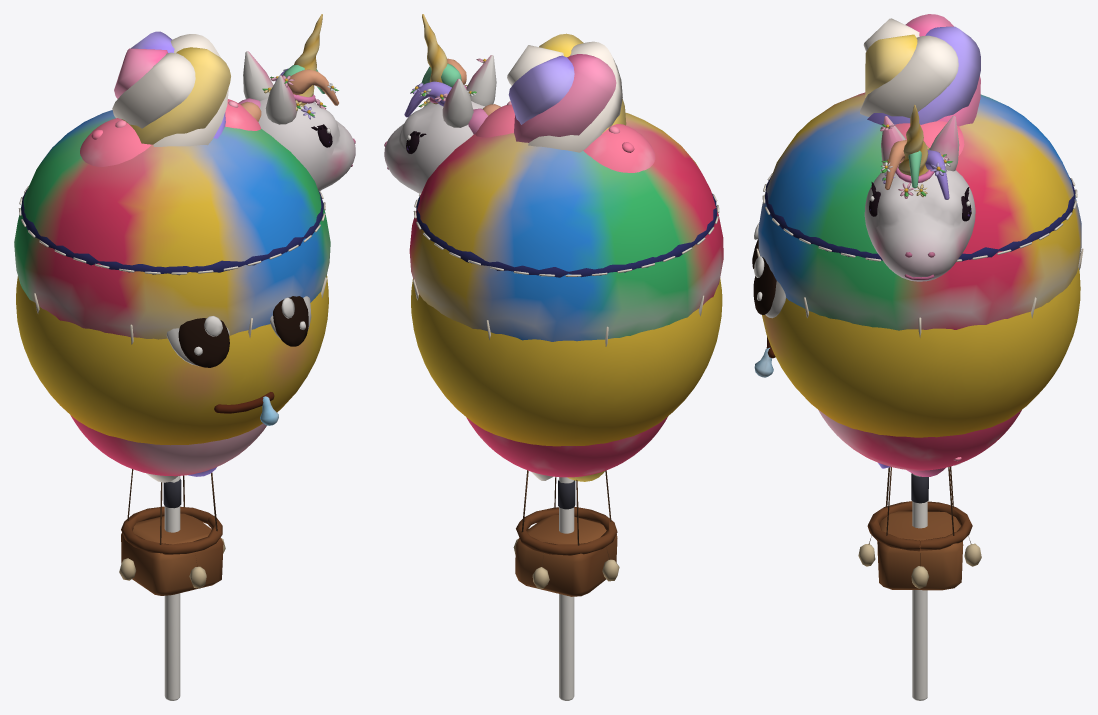
The model's file is min.glb.
3 renders of one model, left to right at view 1: azimuth 30°, elevation 25°; view 2: azimuth 150°, elevation 25°; view 3: azimuth 270°, elevation 25°, orthographic. The views are drawn at different scales.
Parts seen in each view (by area): view 1: BalloonAMin, SmileyBodyMin, TwistMin, UnicornBodyMin, FrogBodyMin; view 2: BalloonAMin, SmileyBodyMin, TwistMin, UnicornBodyMin, FrogBodyMin; view 3: BalloonAMin, SmileyBodyMin, TwistMin, UnicornBodyMin, FrogBodyMin.
Boxes of the visible parts, <box> form: BalloonAMin: <box>14,110,330,595</box>; SmileyBodyMin: <box>16,186,328,445</box>; TwistMin: <box>112,31,230,700</box>; UnicornBodyMin: <box>238,14,355,190</box>; FrogBodyMin: <box>70,99,266,476</box>; BalloonAMin: <box>409,112,723,596</box>; SmileyBodyMin: <box>411,193,722,446</box>; TwistMin: <box>507,33,626,700</box>; UnicornBodyMin: <box>384,14,500,193</box>; FrogBodyMin: <box>466,101,667,477</box>; BalloonAMin: <box>756,92,1083,590</box>; SmileyBodyMin: <box>752,173,1080,437</box>; TwistMin: <box>860,14,980,700</box>; UnicornBodyMin: <box>864,104,975,281</box>; FrogBodyMin: <box>818,121,1021,470</box>.
Size of the model in its own units: 2.34 by 4.61 by 2.07.
